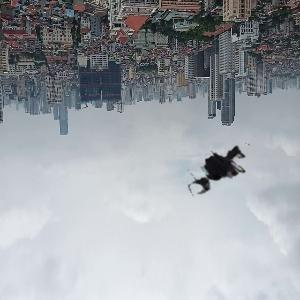drone: (182, 130, 267, 215)
